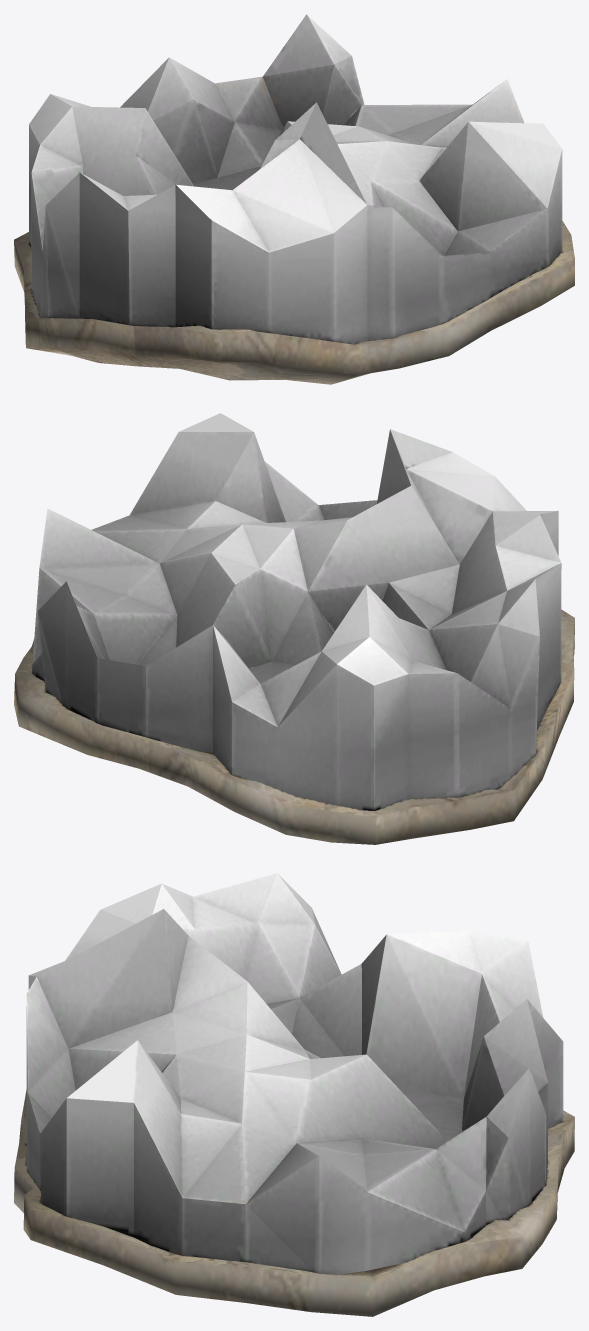
The model's file is QuartzGeode_Polished.glb.
The picture shows the model from 3 angles, top to bottom: view 1: azimuth 30°, elevation 25°; view 2: azimuth 150°, elevation 25°; view 3: azimuth 270°, elevation 25°; orthographic projection. The views are drawn at different scales.
Visible parts, largest first — view 1: QuartzGeode_Polished; view 2: QuartzGeode_Polished; view 3: QuartzGeode_Polished.
Boxes of the visible parts, <box> form: QuartzGeode_Polished: <box>14,14,574,384</box>; QuartzGeode_Polished: <box>14,413,574,844</box>; QuartzGeode_Polished: <box>14,873,574,1316</box>.
Bounding box in the file's own units: 0.4821 × 0.2757 × 0.4277.
Materials: 1 (1 with a texture image).
